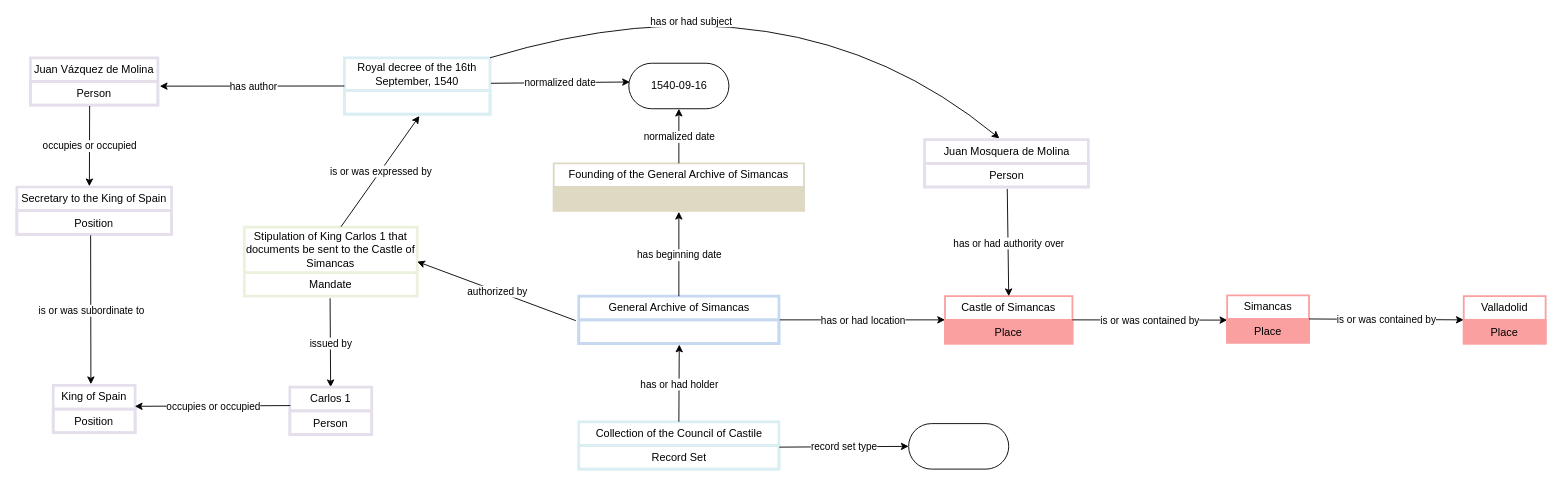
Some shapes in this 1562 by 488 pixel diagram are drawn without their labels. Each missing label, with the centre of its shape:
"Corporate Body" goes at point 678,331.
"Date" goes at point 678,198.
"Fonds" goes at point 958,446.
"Record" goes at point 417,102.
